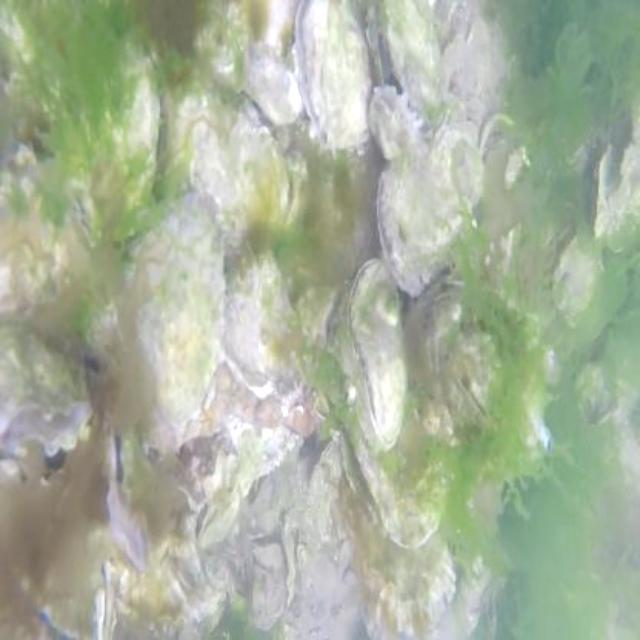Oyster-Closed: (335, 320, 459, 550), (122, 190, 225, 444), (344, 429, 455, 633), (164, 78, 289, 256), (376, 124, 485, 295), (0, 152, 99, 316), (346, 259, 409, 453), (293, 0, 371, 154), (224, 250, 298, 394), (17, 542, 116, 638), (381, 0, 447, 123), (238, 42, 303, 124), (554, 230, 597, 321), (370, 87, 425, 158), (295, 286, 334, 341)
Oyster-Open: (0, 317, 104, 453), (105, 423, 155, 566), (595, 95, 638, 240)
